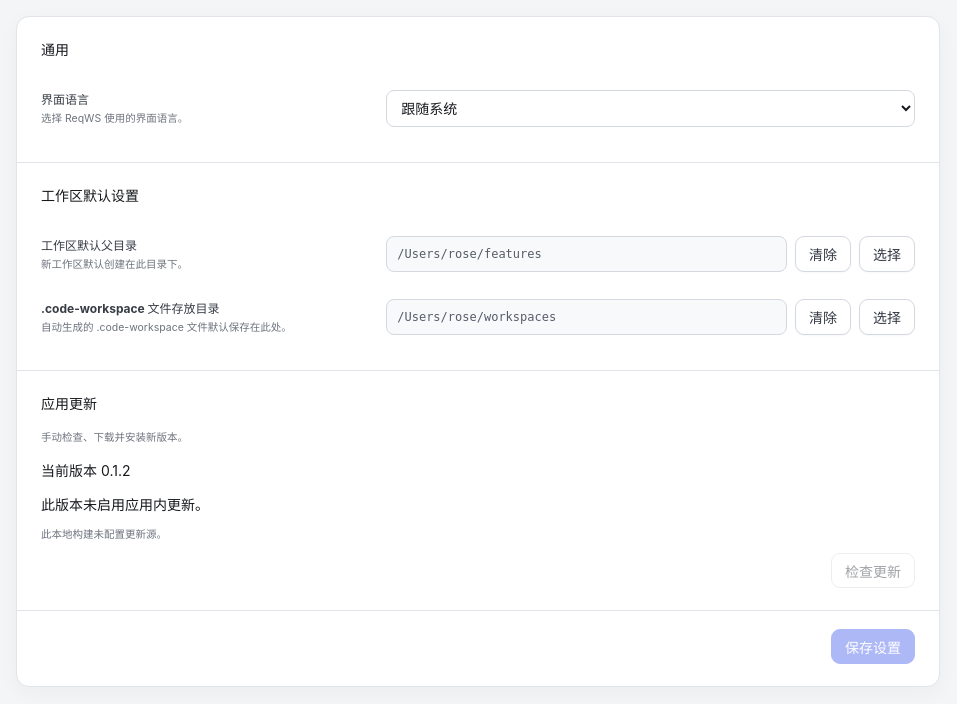
Test: Settings page › only enables saving after a setting changes
This screenshot has width=957, height=704.
Expected: the button "保存设置" is disabled, [831,629,915,664]
Select "English" in the dropdown labelled "界面语言" at (651, 108), box [386,90,915,127]
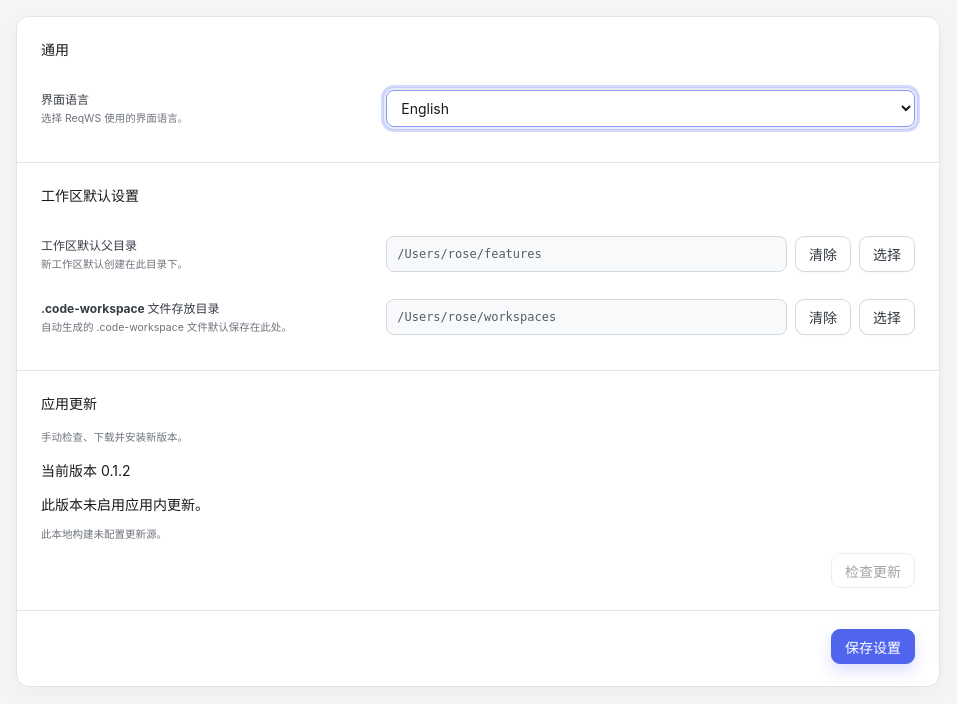
Expected: the button "保存设置" is enabled, [831,629,915,664]
